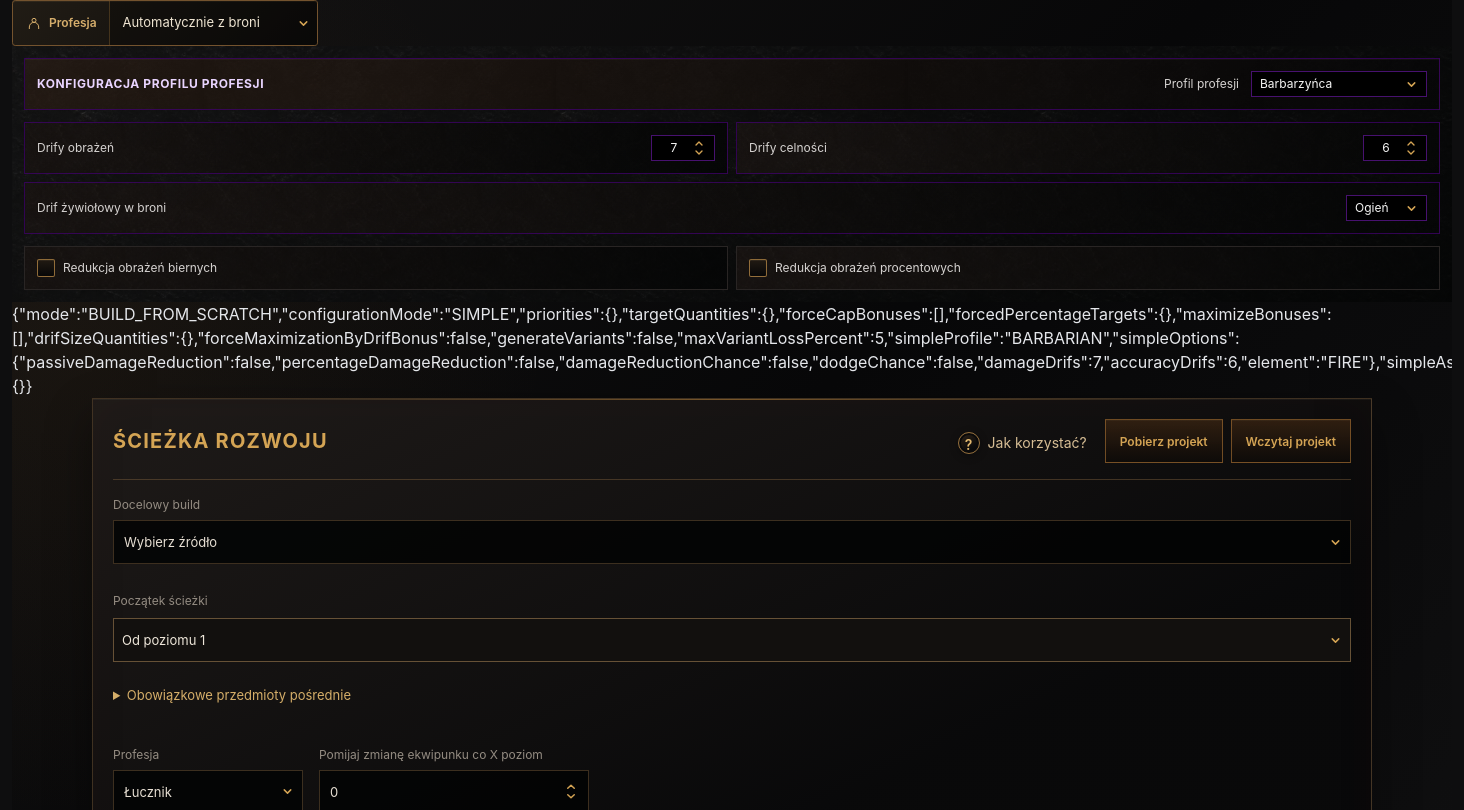
Scenario: ignores a stale planner response after a profession change elsewhere
Select "Aktualny kreator" in the dropdown labelled "Docelowy build" at (732, 542), box [113,520,1351,564]
(page scrolled)
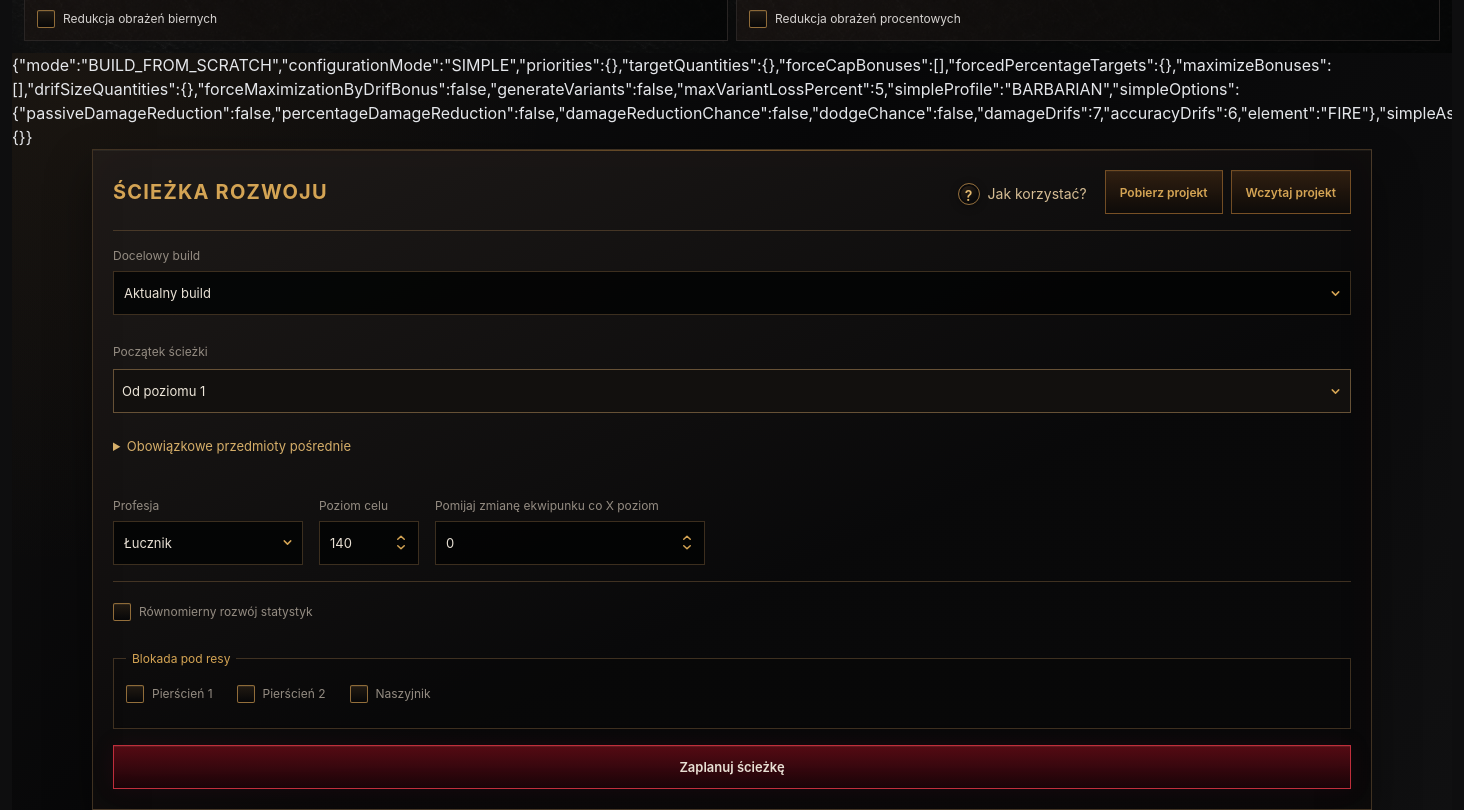
Click the button "Zaplanuj ścieżkę" at (732, 766), box [113,744,1351,788]
(page scrolled)
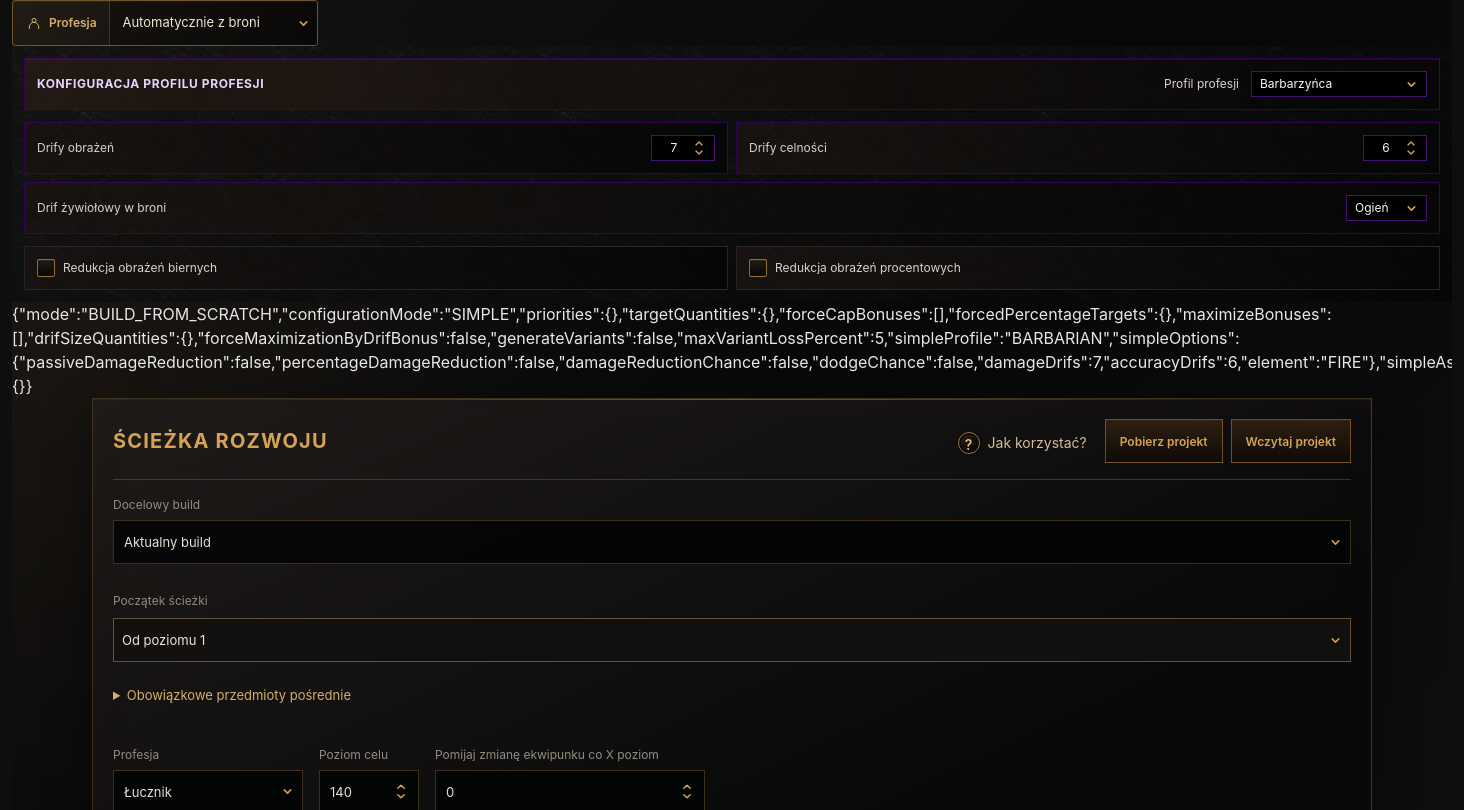
Select "Mag Ognia" in the 1st dropdown labelled "Profesja" at (213, 23), box [109,1,317,45]
(page scrolled)
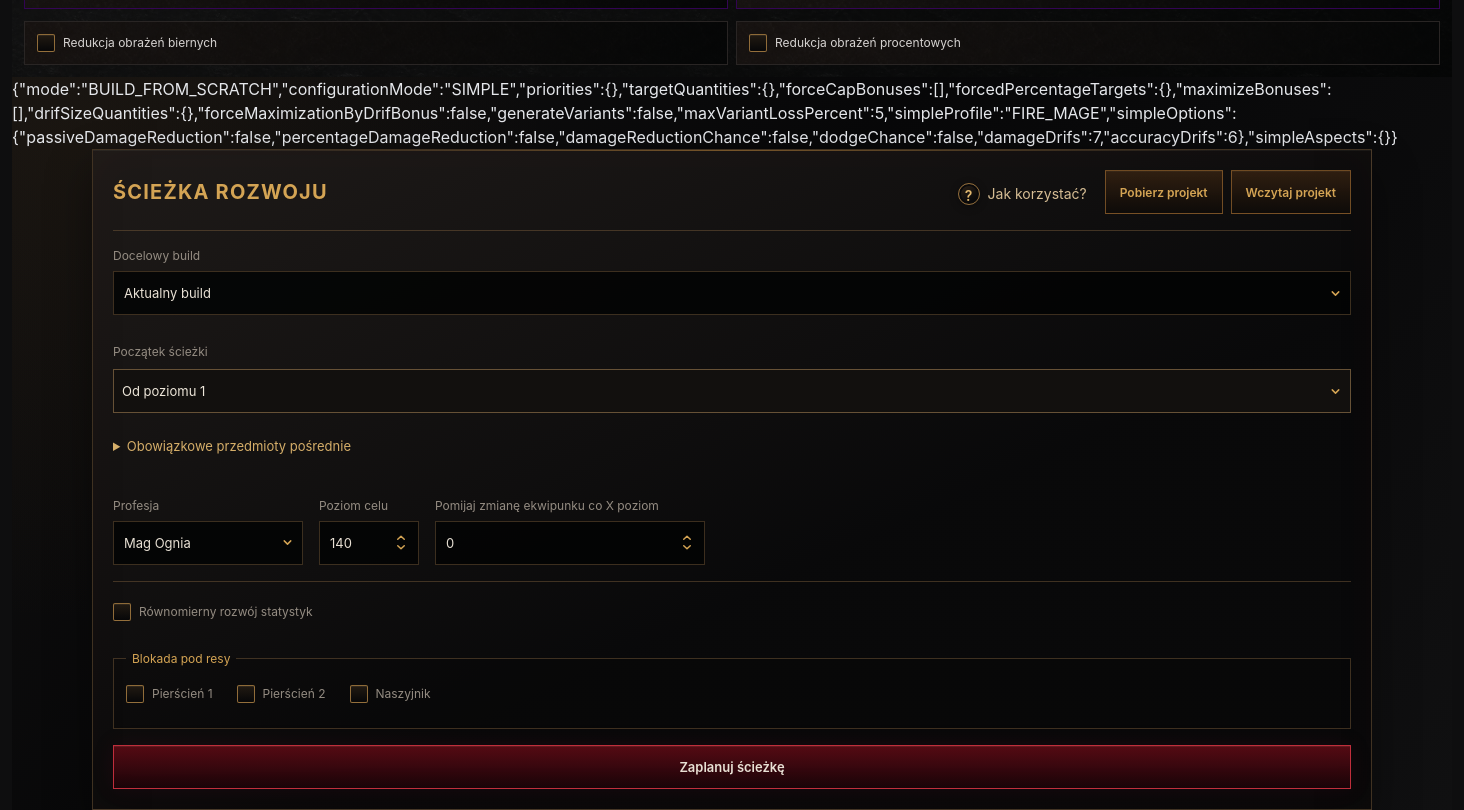
Result: the dropdown labelled "Profesja" shows "Mag Ognia" at [113,520,303,564]
Result: the button "Zaplanuj ścieżkę" is enabled at [113,744,1351,788]
